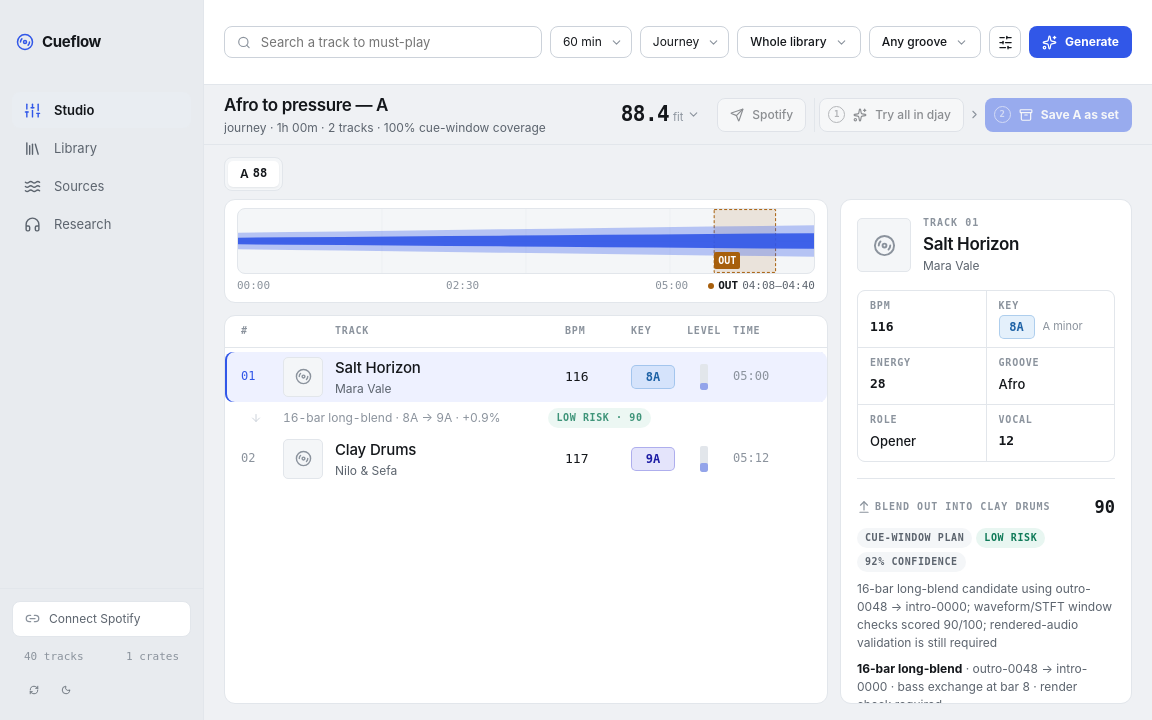
Test: Cueflow desk › browses the master library, filters it, and explains one track
The image size is (1152, 720).
Expected: the heading "Afro to pressure — A" is shown, [224,95,388,115]
Step 1. Click the button "Library" → click(102, 148), box [12,130,191,166]
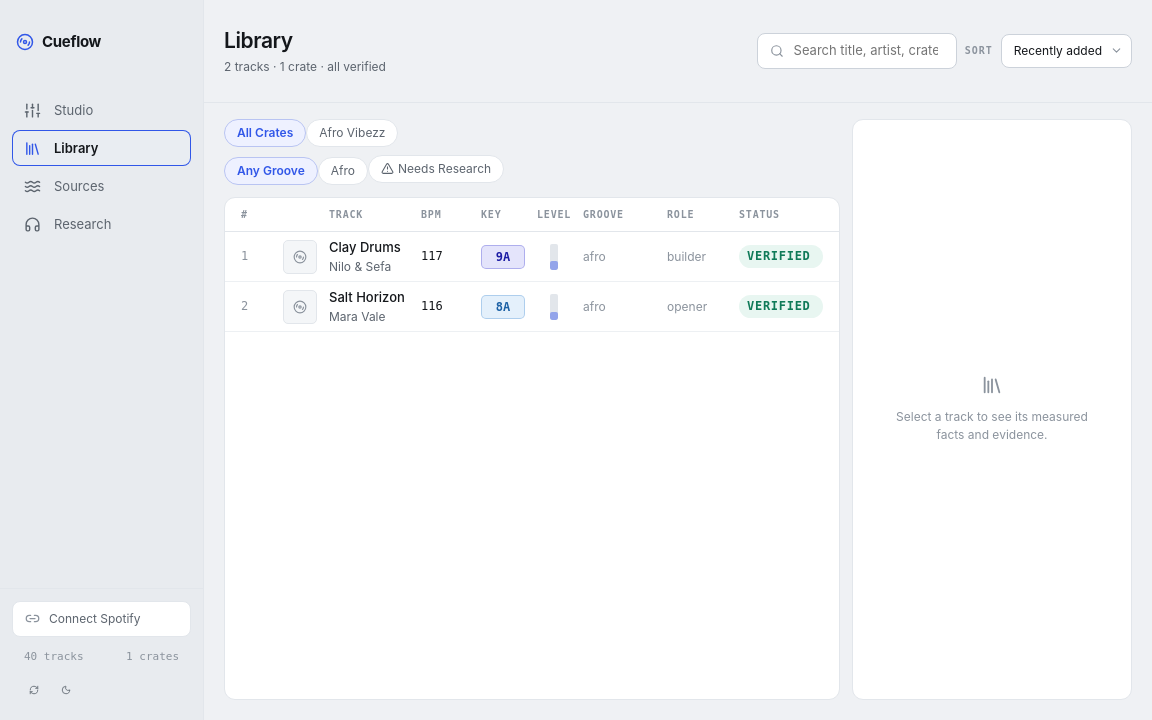
Expected: the heading "Library" is shown, [224,28,293,53]
Step 2. Type "clay" into the search field named "Search the library" → (868, 51), box [792,40,944,61]
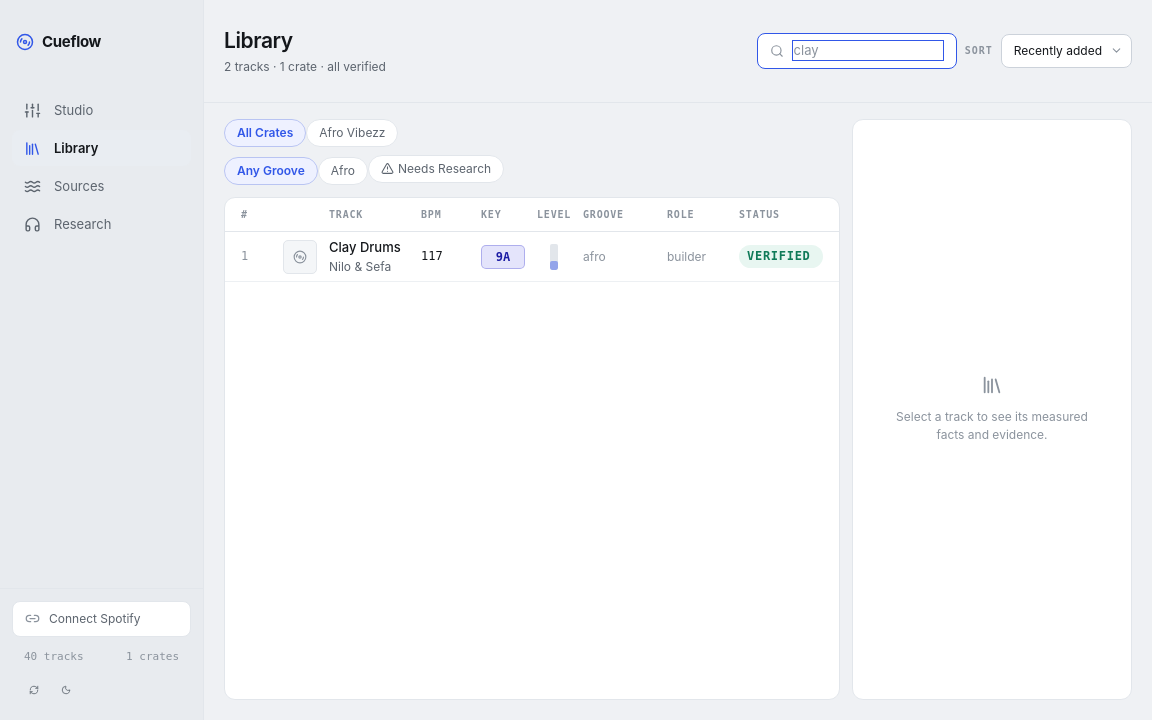
Step 3. Click the button with aria-label "Clay Drums by Nilo & Sefa" → click(300, 257), box [225,232,839,282]
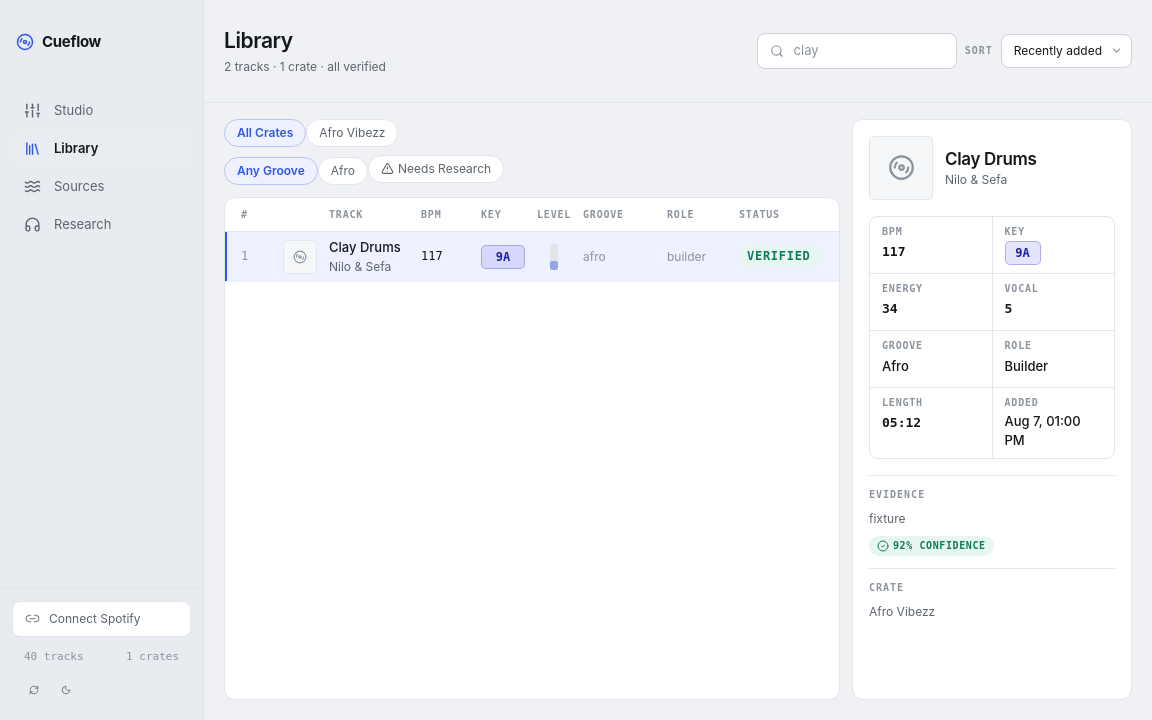
Expected: the heading "Clay Drums" is shown, [945,149,1036,169]
Expected: the text "fixture" is shown, [869,510,906,528]
Expected: the text "92% confidence" is shown, [869,536,994,556]
